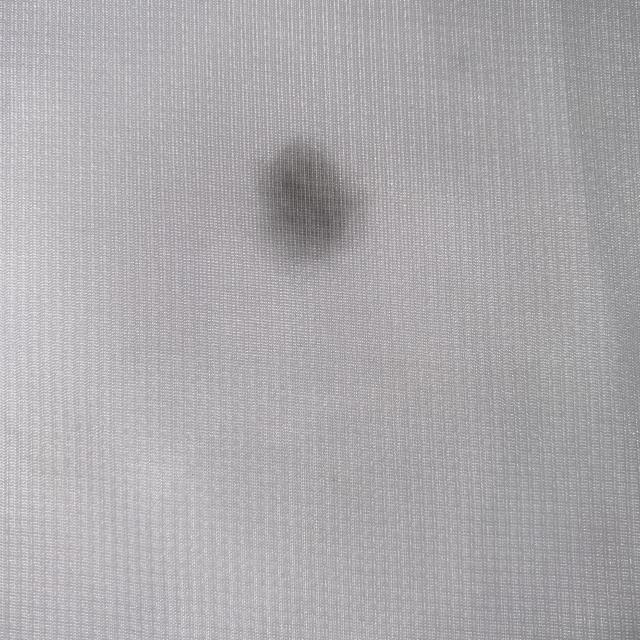Stain: (264, 139, 354, 257)
